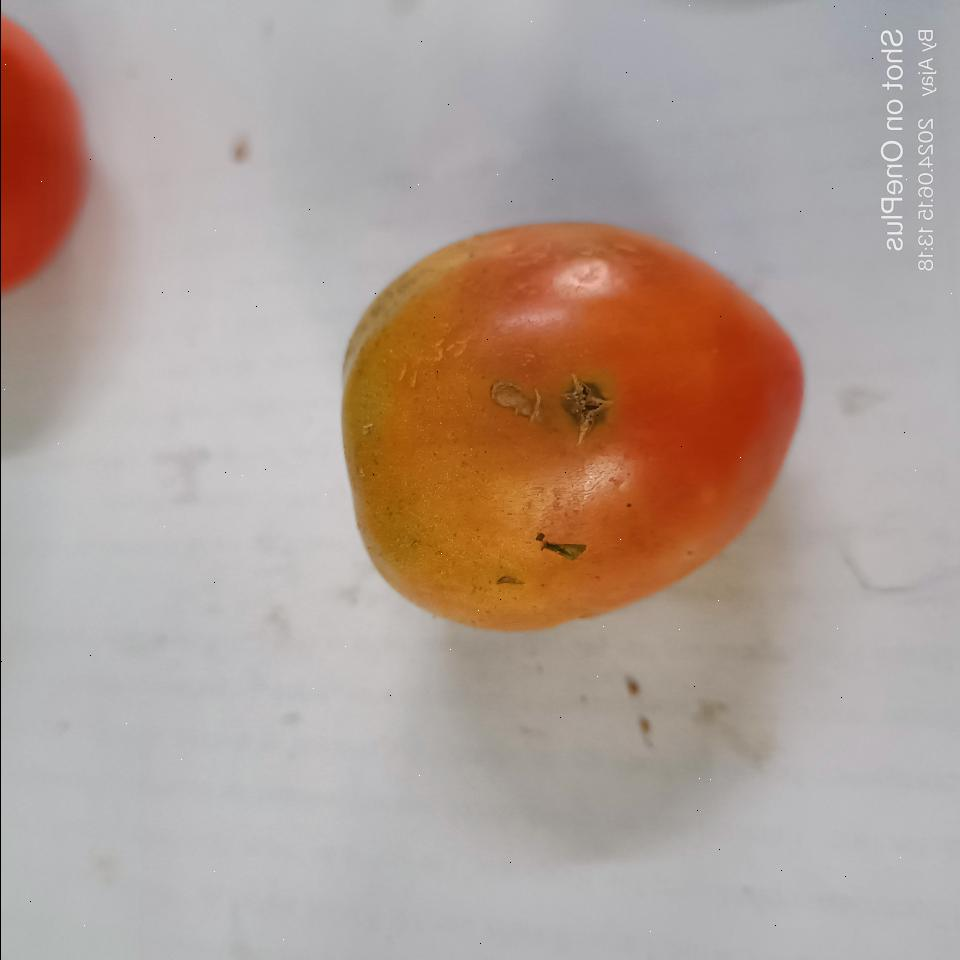Bacterial_Spot: (554, 372, 610, 434), (488, 384, 544, 423), (530, 534, 582, 568)
